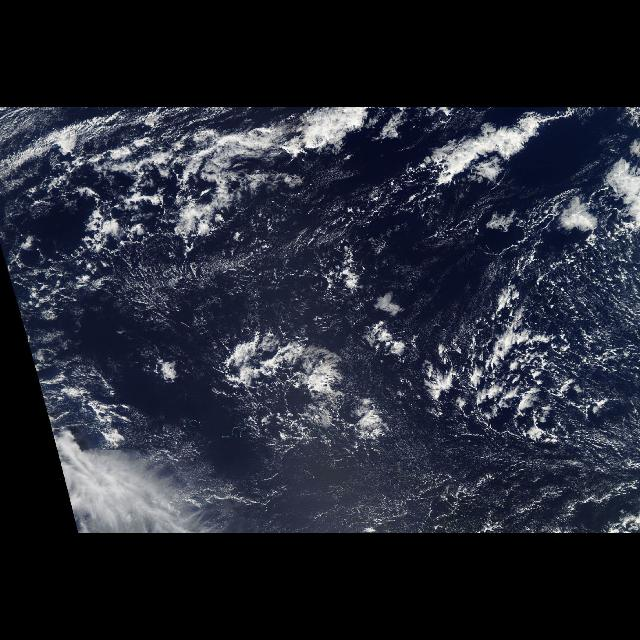Gravel: (410, 198, 638, 468)
Sugar: (185, 401, 639, 533), (10, 224, 438, 324)
